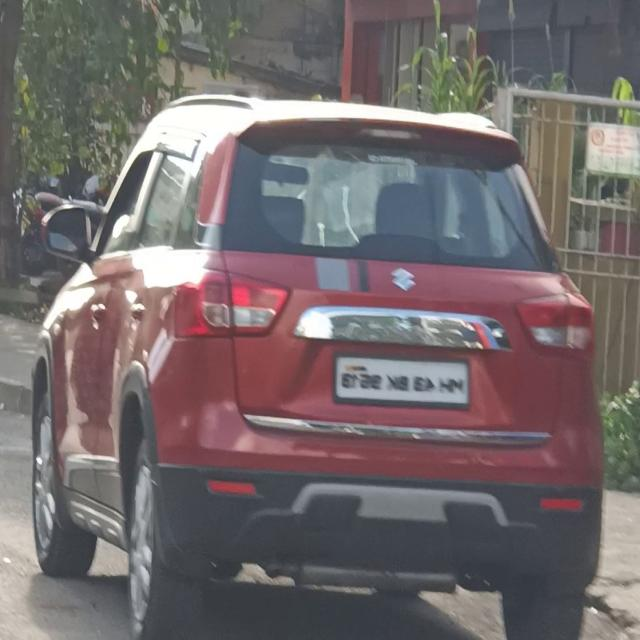license_plate: (328, 348, 473, 415)
